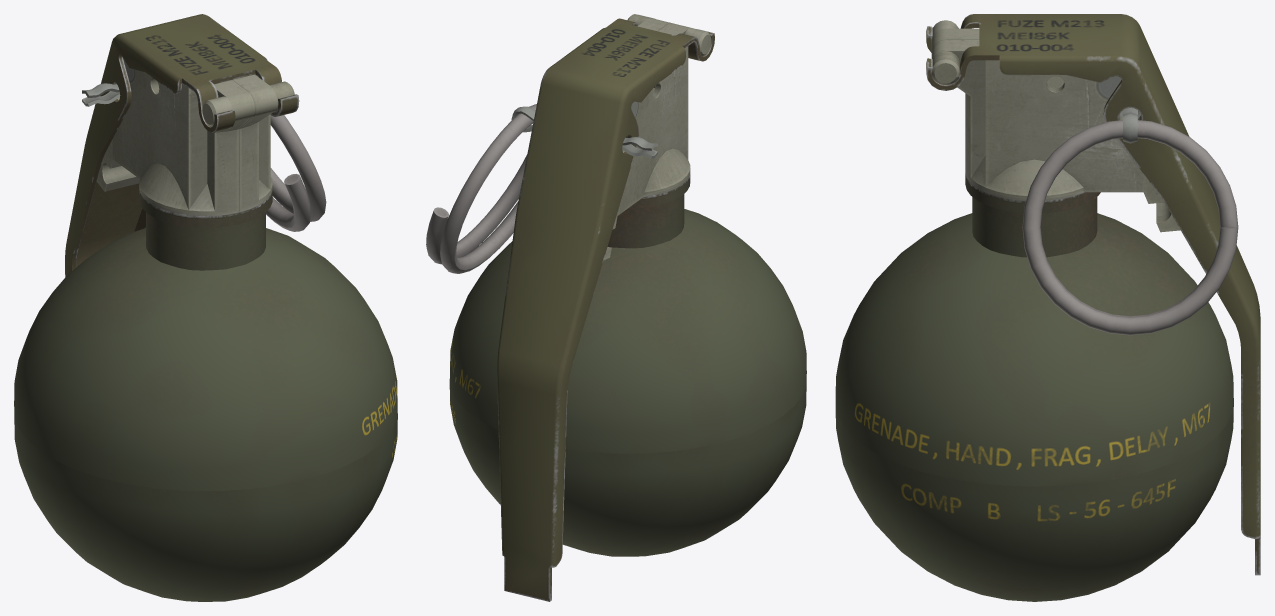
3 renders of one model, left to right at view 1: azimuth 30°, elevation 25°; view 2: azimuth 150°, elevation 25°; view 3: azimuth 270°, elevation 25°, orthographic. The views are drawn at different scales.
Visible parts, largest first — view 1: O_m67__Body; view 2: O_m67__Body; view 3: O_m67__Body.
Part boxes in pixels (x1=…): O_m67__Body: x1=14, y1=14, x2=397, y2=601; O_m67__Body: x1=426, y1=14, x2=806, y2=601; O_m67__Body: x1=835, y1=14, x2=1260, y2=601.
Size of the model in its own units: 0.1651 by 0.2507 by 0.1761.
Materials: 1 (1 with a texture image).
